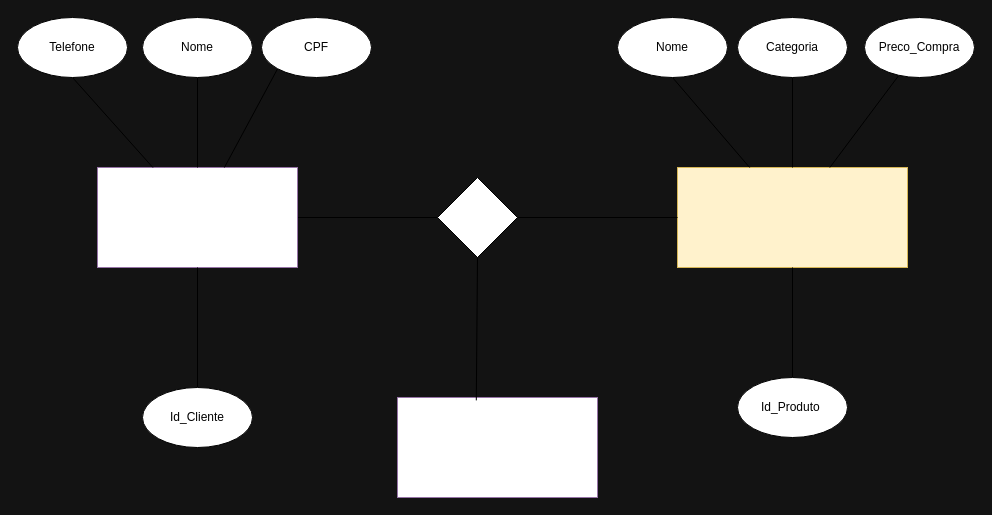
The diagram is 992 pixels wide and 515 high, and some of its shapes have lost their labels. Each missing label, with the centre of its shape:
Clientes: point 197,217
Produtos: point 792,217
